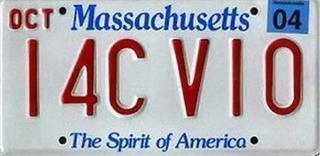placa de veiculo: (4, 2, 318, 154)
